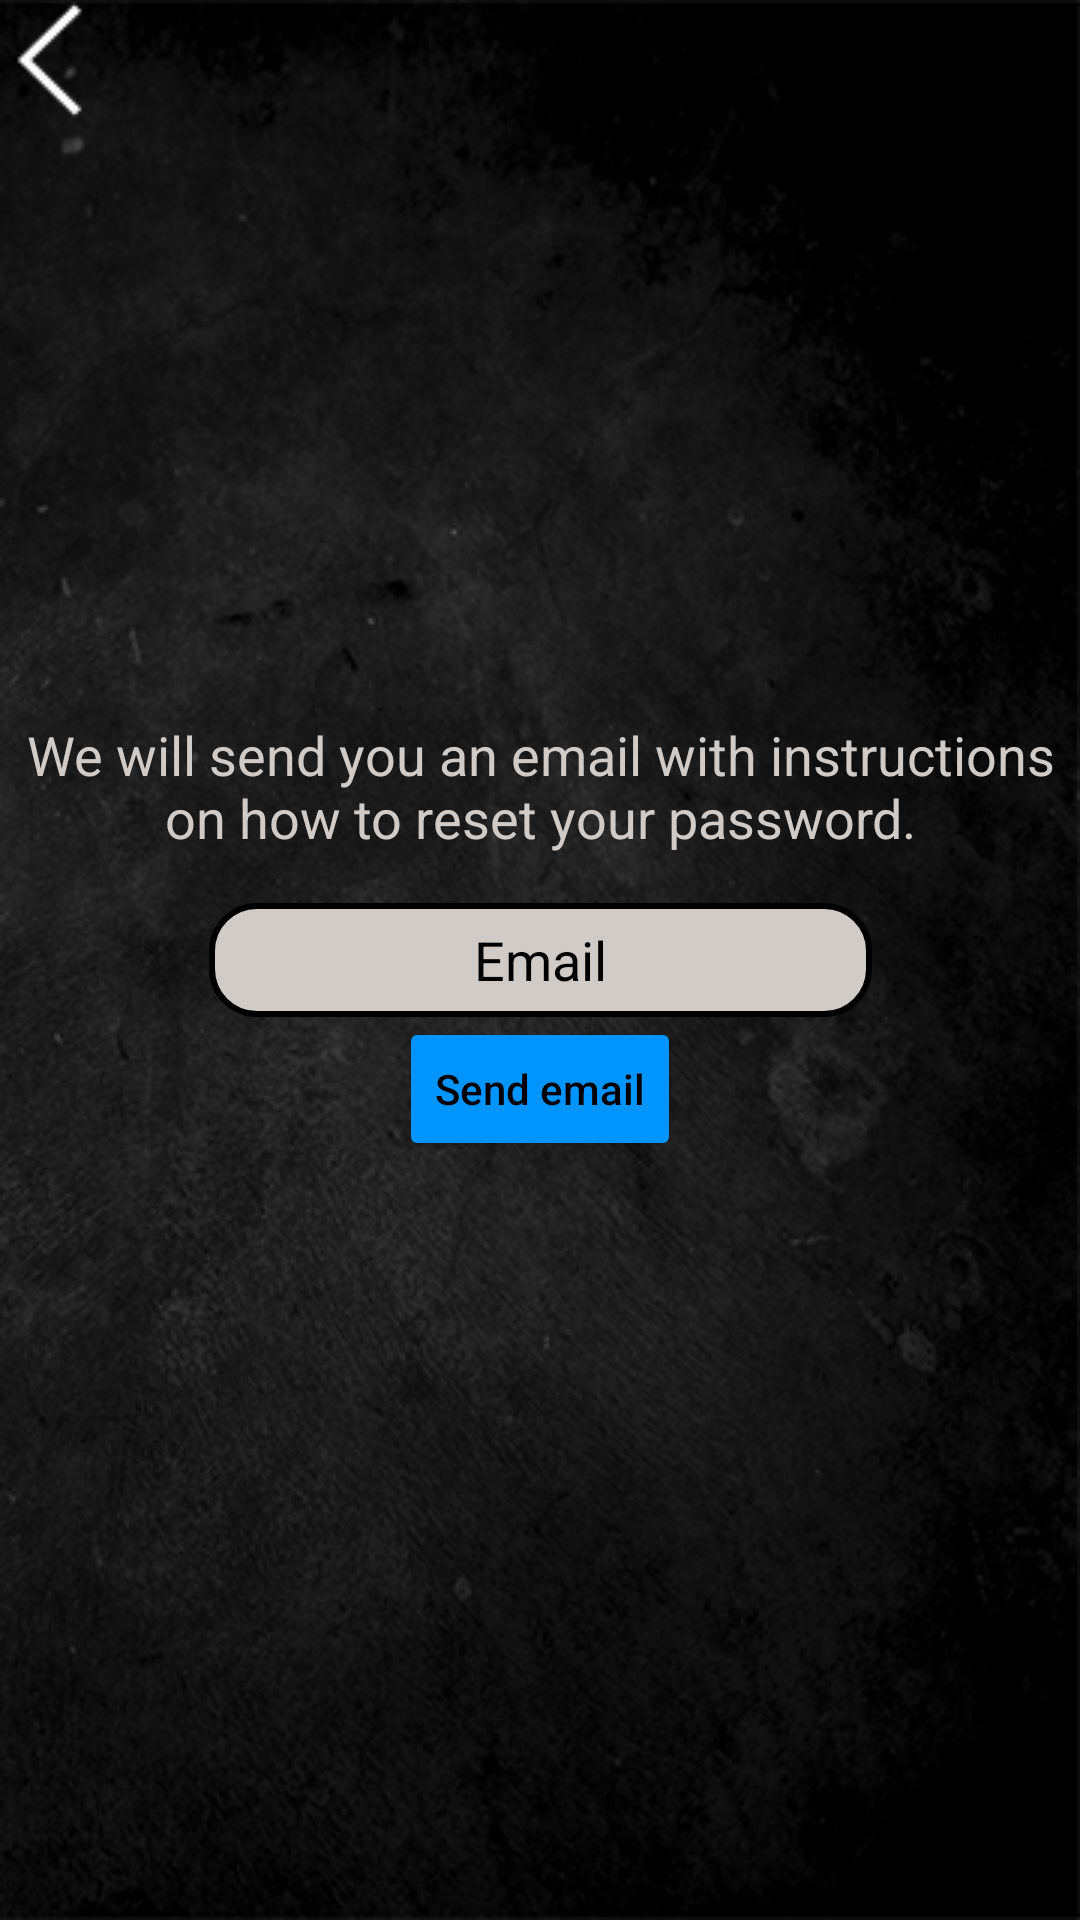

Icon click points for this 1080px×1920px phone screenshot, format (x,y):
backbutton: (49,60)
